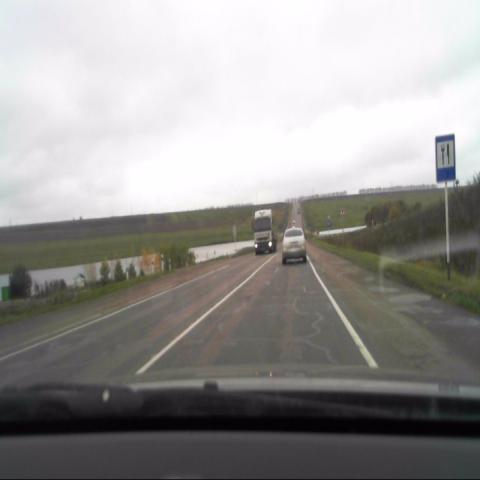7_7: (436, 134, 456, 182)
